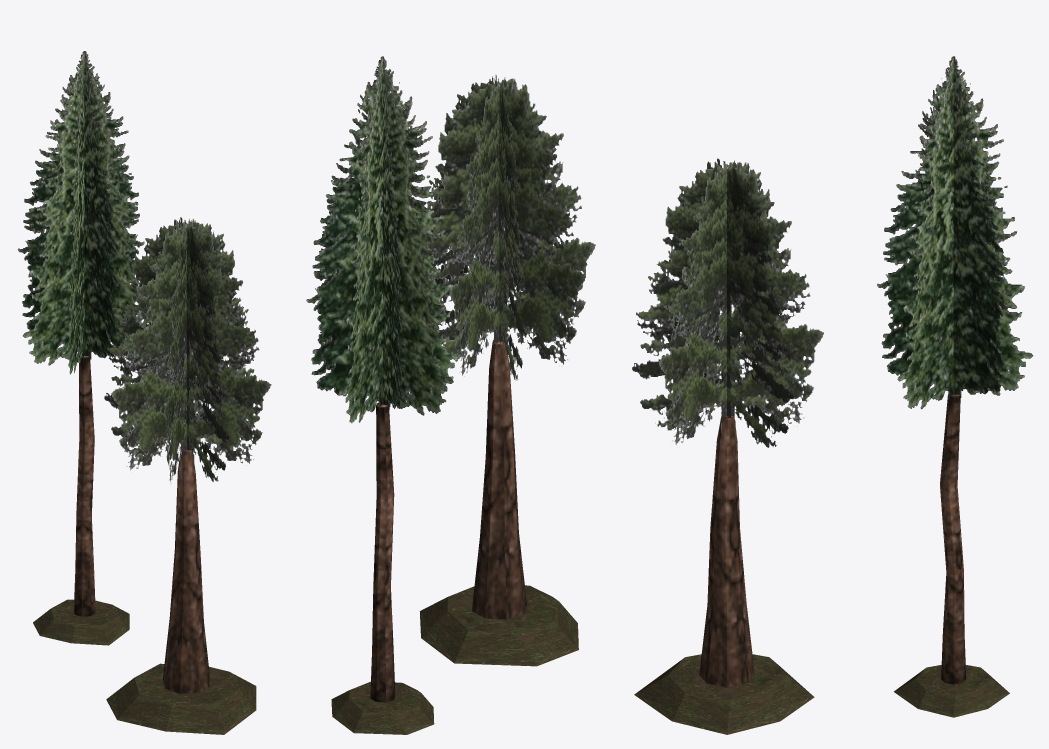
The model's file is psx_style_trees.glb.
The picture shows the model from 3 angles, left to right: view 1: azimuth 30°, elevation 25°; view 2: azimuth 150°, elevation 25°; view 3: azimuth 270°, elevation 25°; orthographic projection. The views are drawn at different scales.
Parts seen in each view (by area): view 1: Tree.1, Tree, Bark.1, Ground.1, Bark, Ground; view 2: Tree, Tree.1, Bark.1, Ground.1, Bark, Ground; view 3: Tree.1, Tree, Bark.1, Ground.1, Bark, Ground.
Part boxes in pixels (box(x1,y1,x2,y2)): Tree.1: box(104, 217, 271, 484); Tree: box(18, 51, 144, 374); Bark.1: box(162, 450, 210, 693); Ground.1: box(106, 663, 256, 734); Bark: box(74, 355, 95, 616); Ground: box(33, 599, 129, 645); Tree: box(306, 56, 461, 423); Tree.1: box(424, 75, 595, 380); Bark.1: box(472, 339, 526, 619); Ground.1: box(419, 585, 578, 666); Bark: box(370, 402, 395, 702); Ground: box(331, 681, 434, 734); Tree.1: box(632, 158, 823, 447); Tree: box(877, 56, 1033, 409); Bark.1: box(699, 415, 754, 686); Ground.1: box(634, 654, 814, 734); Bark: box(940, 394, 966, 684); Ground: box(894, 665, 1009, 717).
Size of the model in its own units: 2.46 by 8.84 by 5.03.
4 materials, 4 textured.
